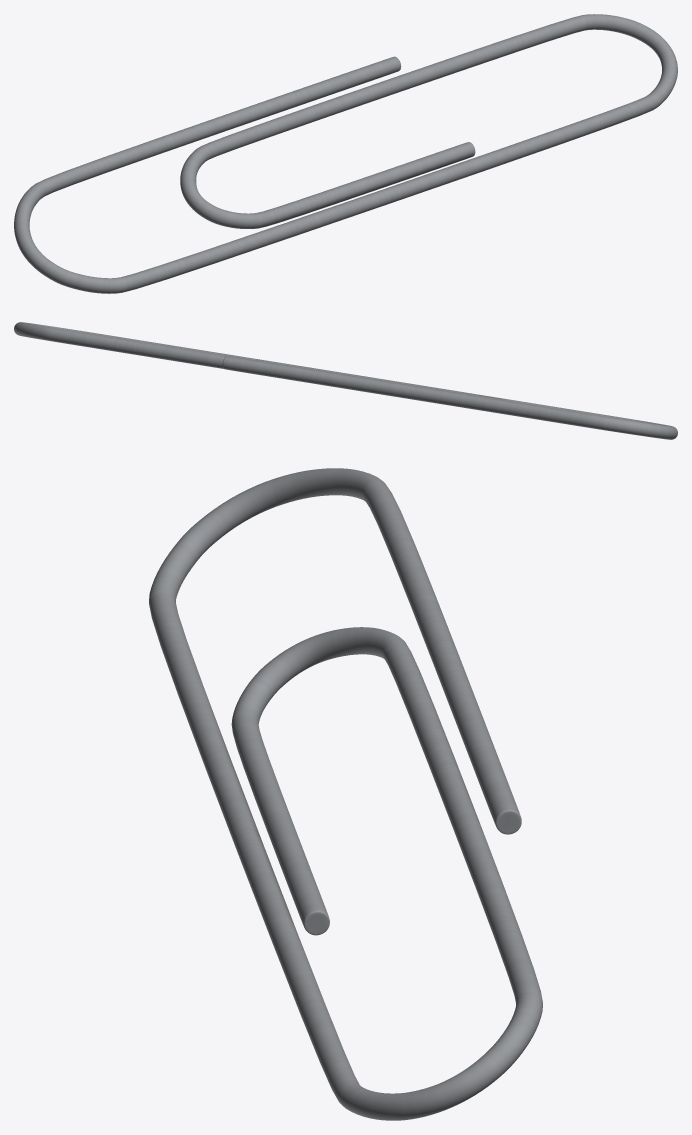
File: metal_paper_clip.glb
3 views of the same model, one above another, from view 1: azimuth 30°, elevation 25°; view 2: azimuth 150°, elevation 25°; view 3: azimuth 270°, elevation 25° (orthographic). The views are drawn at different scales.
Parts seen in each view (by area): view 1: PaperClip; view 2: PaperClip; view 3: PaperClip.
Part boxes in pixels (bbox=[...]): PaperClip: bbox=[14, 14, 677, 293]; PaperClip: bbox=[14, 322, 677, 439]; PaperClip: bbox=[149, 468, 542, 1120].
Size of the model in its own units: 0.0864 by 0.00842 by 0.0243.
1 material, 1 textured.
